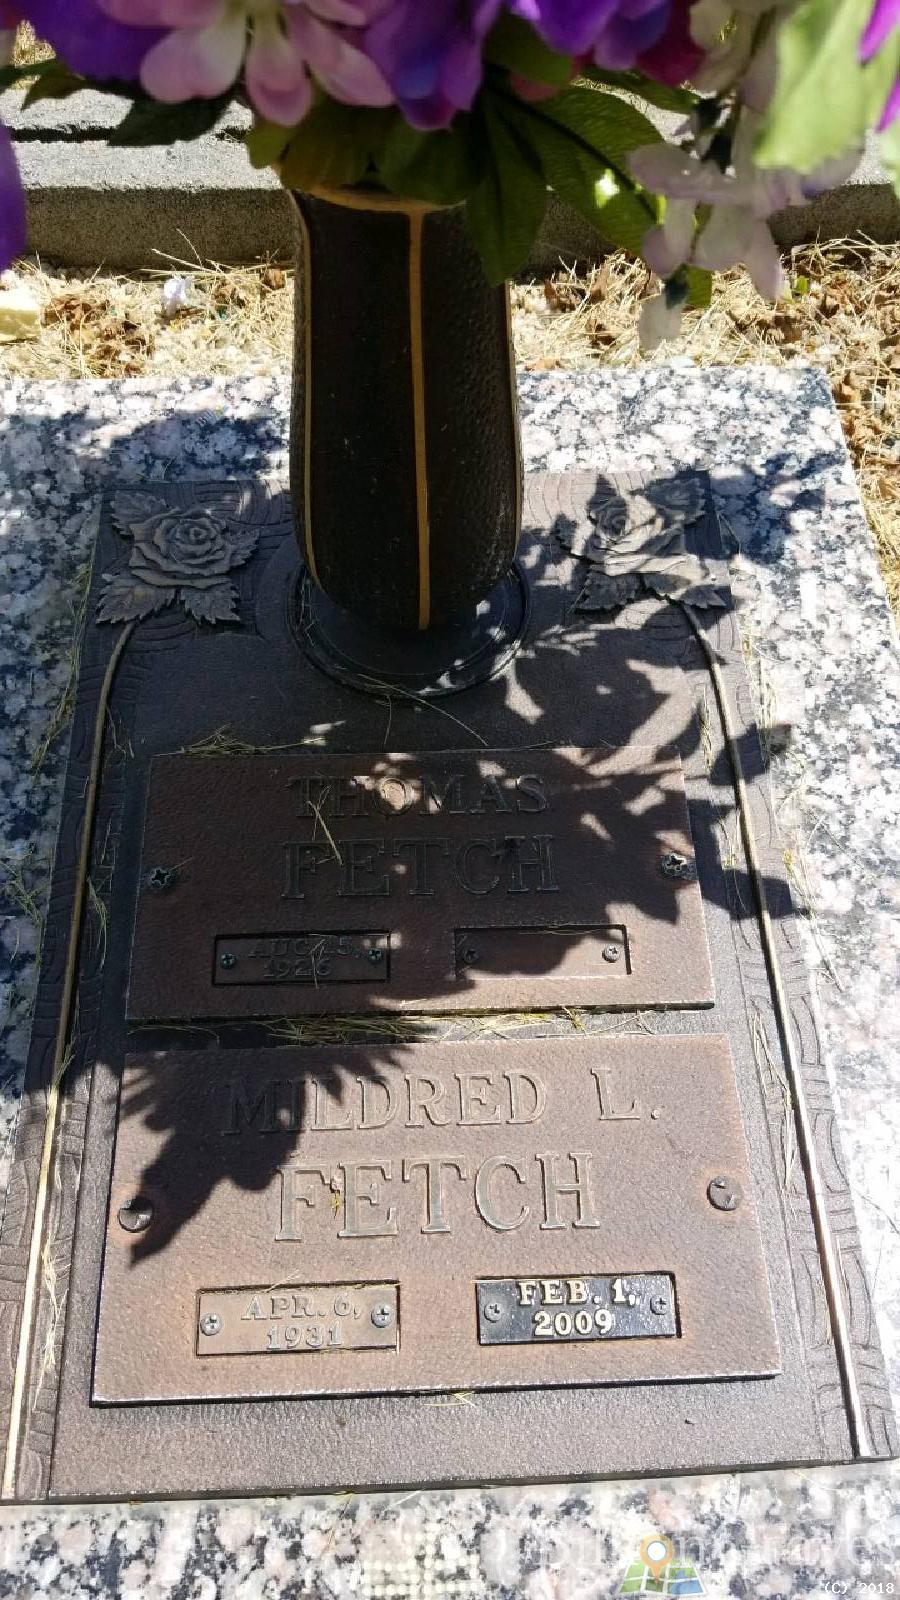flat: (18, 362, 897, 1542)
